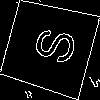S: (24, 22, 78, 67)
